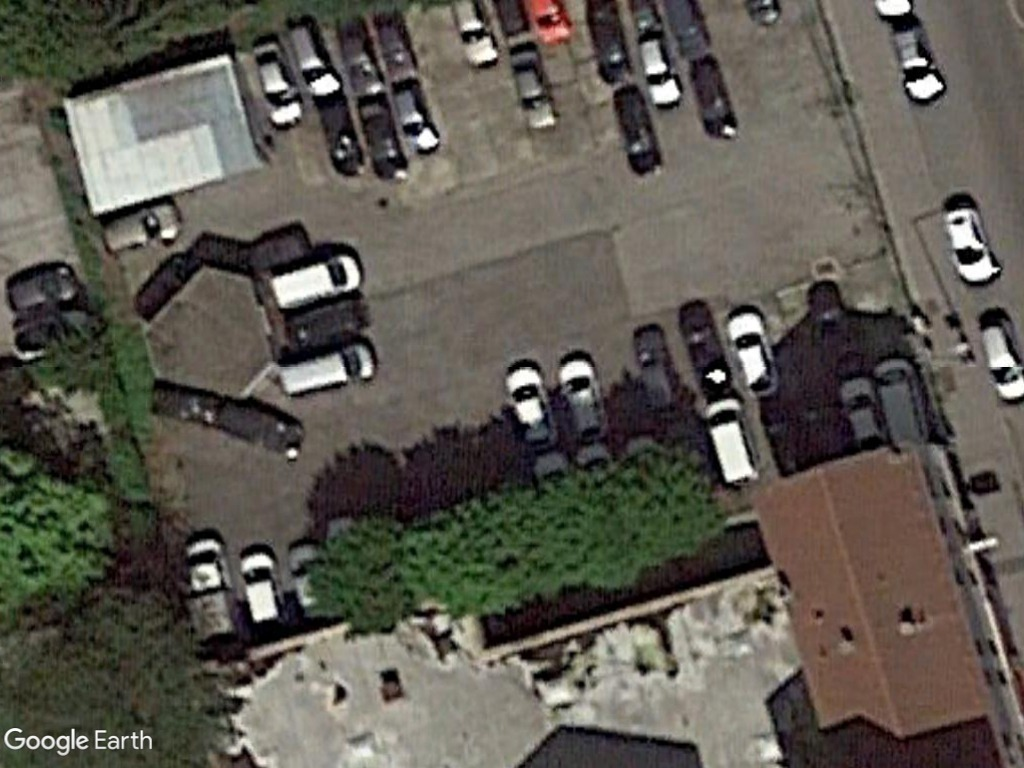car: (92, 195, 188, 265), (720, 304, 789, 401), (630, 321, 688, 423), (246, 34, 307, 130), (552, 352, 613, 447), (282, 18, 343, 105), (503, 357, 556, 457), (942, 197, 1000, 288), (234, 543, 288, 639), (506, 40, 559, 134), (976, 308, 1024, 407), (0, 259, 80, 318), (386, 81, 443, 160)
van: (266, 340, 380, 398), (266, 249, 365, 312), (700, 394, 760, 494)
